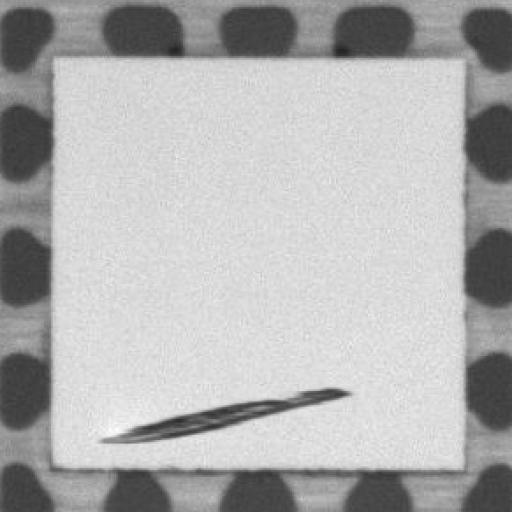DIE_INK: (93, 382, 352, 444)
